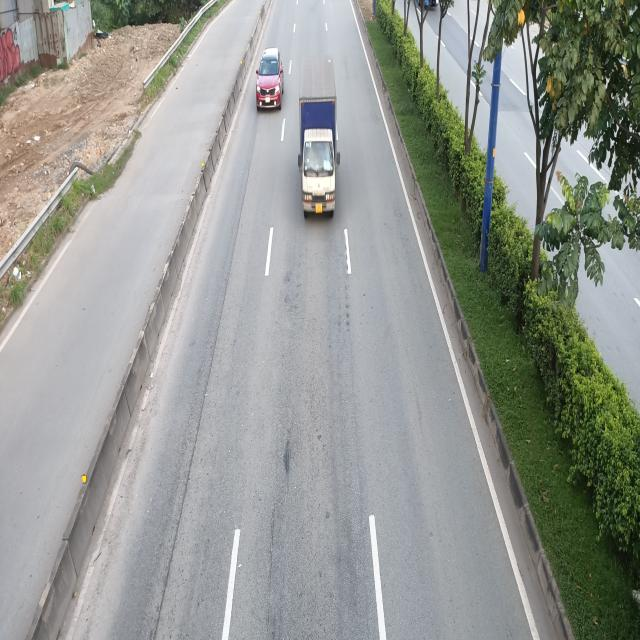car: (256, 46, 284, 109)
truck: (298, 56, 339, 218)
